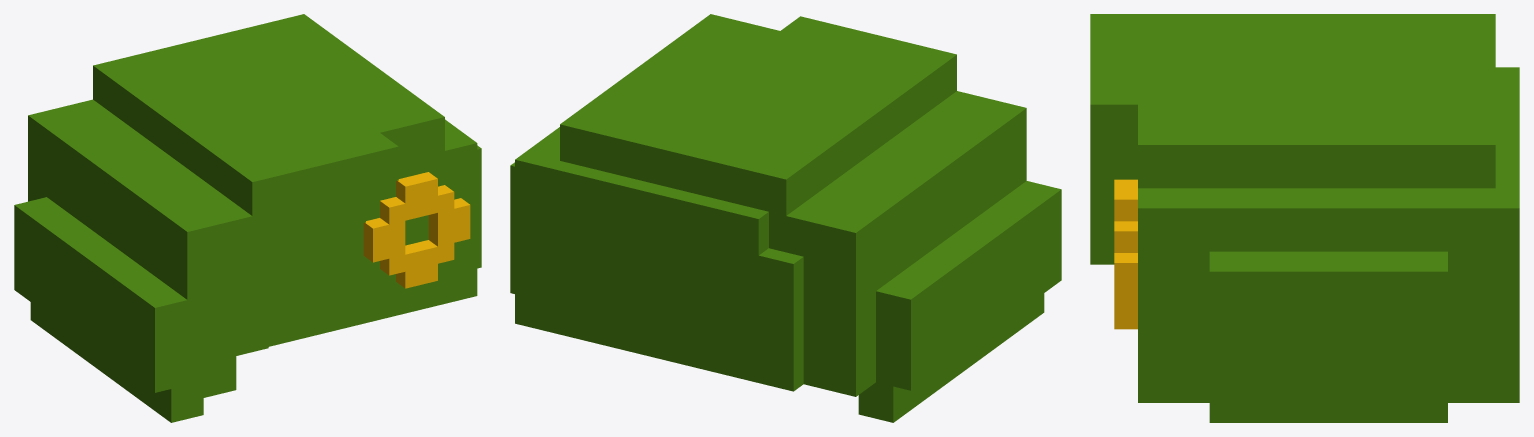
File: sergeant.vox-2.fbx
The picture shows the model from 3 angles, left to right: view 1: azimuth 30°, elevation 25°; view 2: azimuth 150°, elevation 25°; view 3: azimuth 270°, elevation 25°; orthographic projection. The views are drawn at different scales.
Parts seen in each view (by area): view 1: sergeant.vox-2; view 2: sergeant.vox-2; view 3: sergeant.vox-2.
Boxes of the visible parts, box(x1,y1,x2,y2) form: sergeant.vox-2: box(14, 14, 481, 422); sergeant.vox-2: box(510, 14, 1061, 422); sergeant.vox-2: box(1090, 14, 1519, 422).
Bounding box in the file's own units: 2.3 × 1.3 × 1.8.
1 material, 1 textured.
